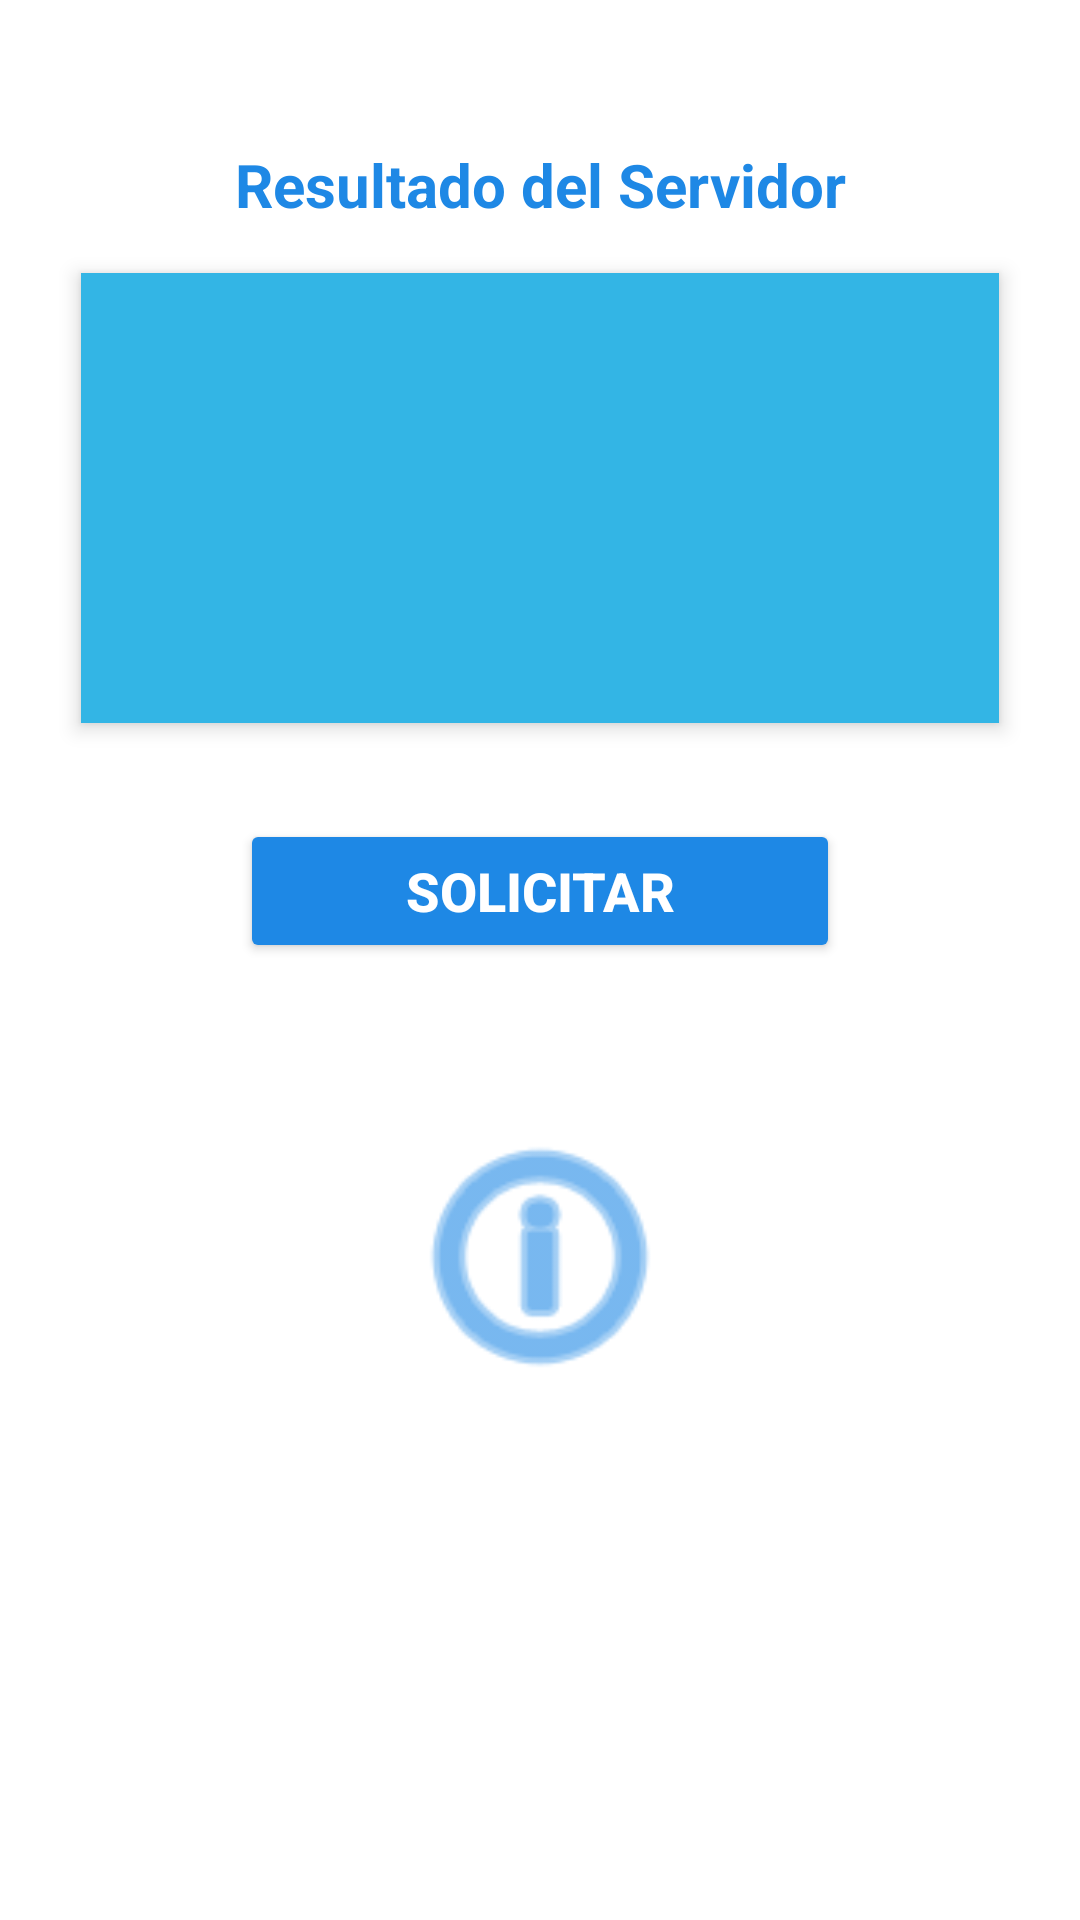

Named icons in this screenshot (1080 x 1920) and their bounding boxes, (x1, y1, x2, y2):
info details: (432, 1149, 648, 1365)
